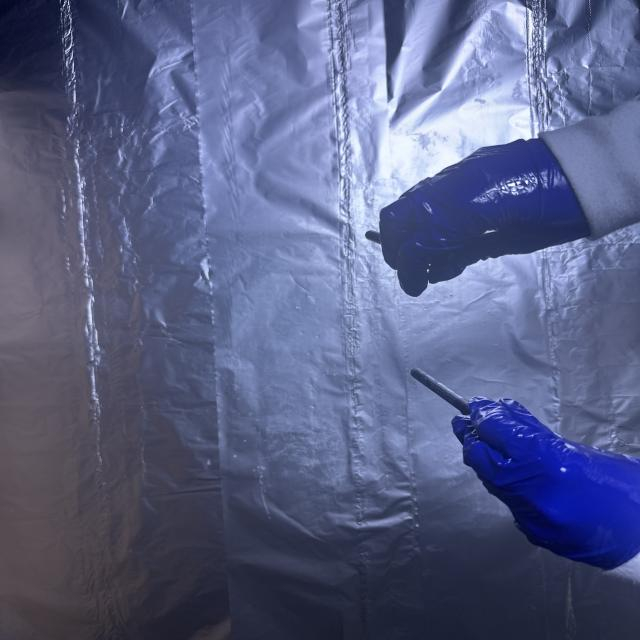gloves_contaminated: (379, 140, 590, 296), (452, 397, 640, 569)
